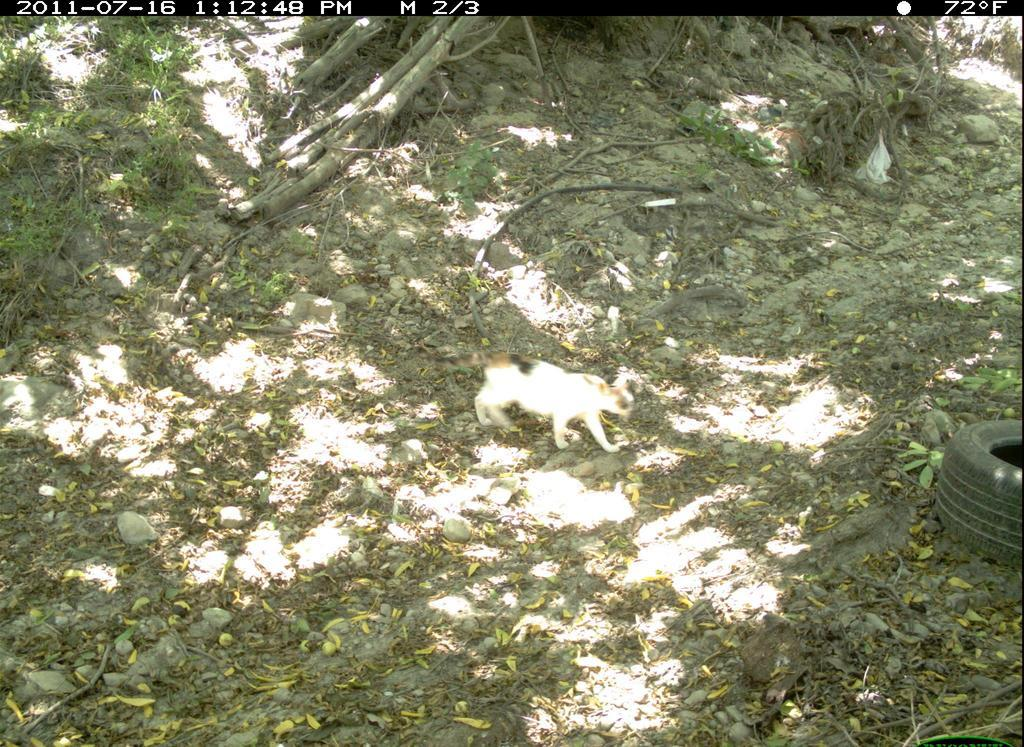cat: (414, 340, 641, 460)
